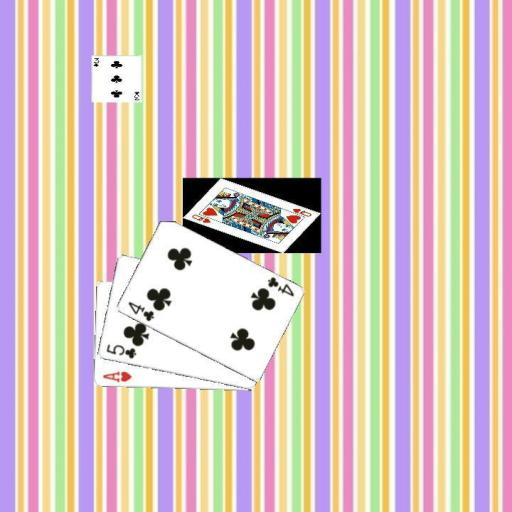card-corner: (124, 299, 155, 323), (264, 274, 295, 298), (102, 342, 138, 360), (100, 368, 133, 384)
